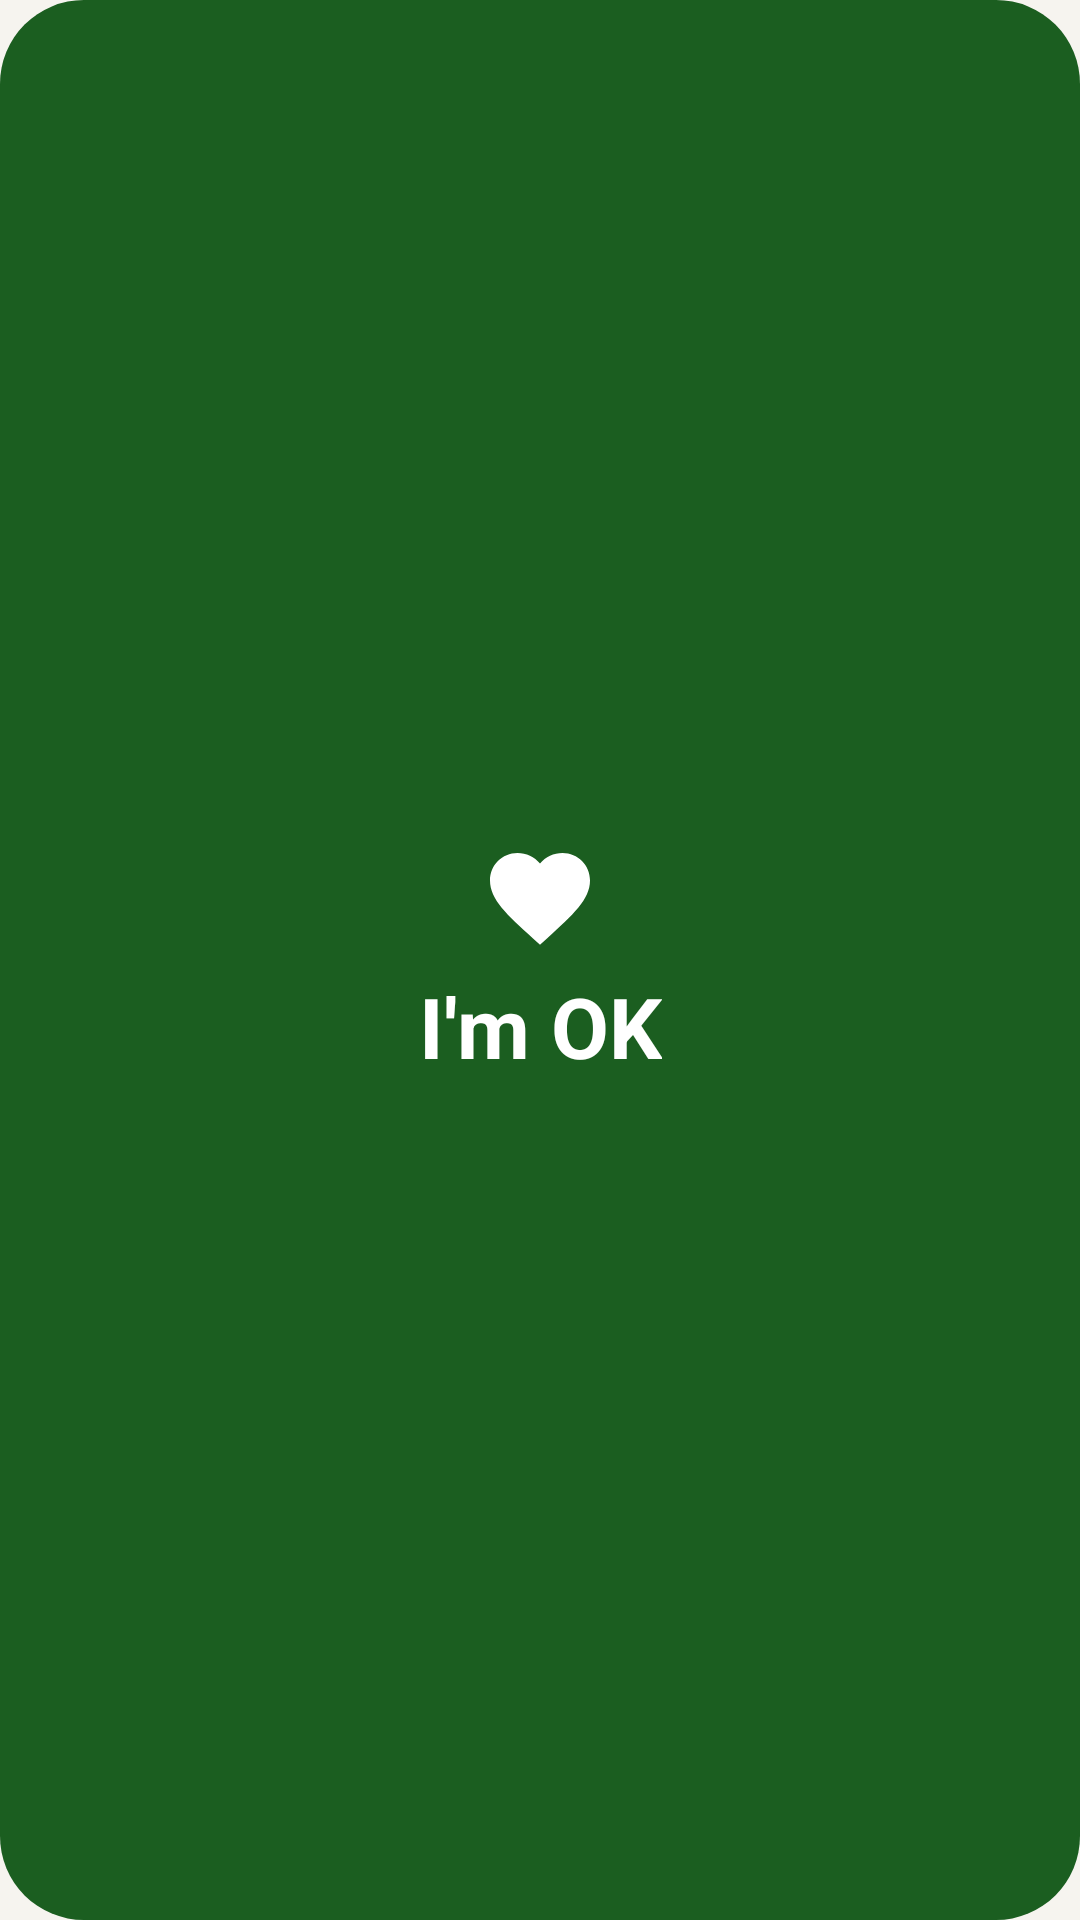

Icons on this 1080x1920 Android screen, each with its box as (x1, y1, x2, y2):
heart: (490, 853, 590, 945)
